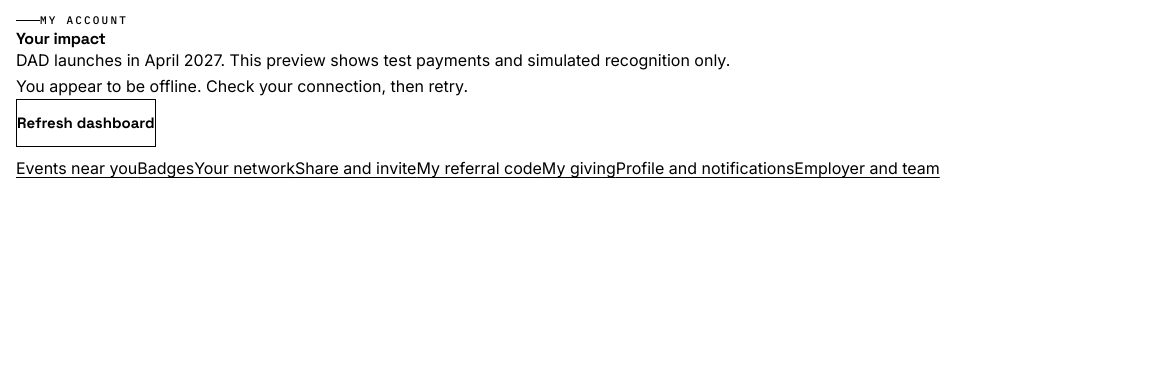
Test: supports connection failure and retry
Check: the message shows "Check your connection", box [16,76,468,96]
Check: the message does not show "Offline", box [16,76,468,96]
Click the button "Refresh dashboard" at point(86, 123), box [16,99,156,147]
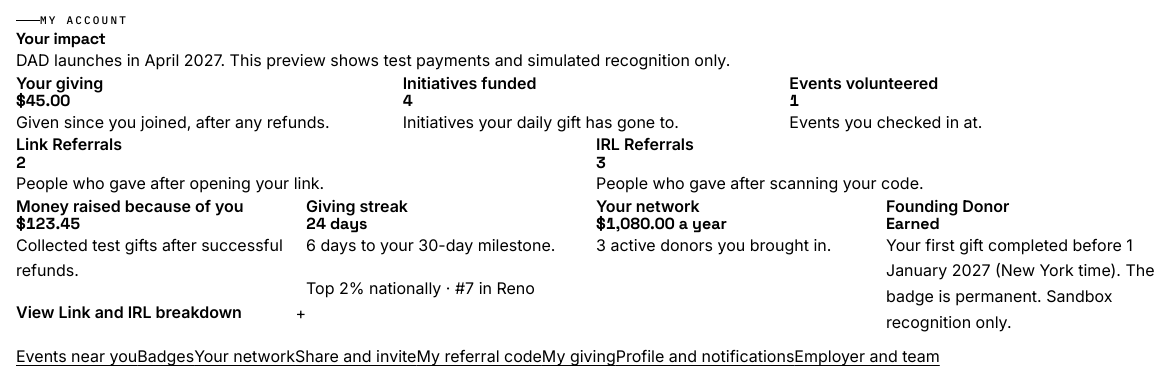
Check: the text "$123.45" is shown, box [16,213,80,234]
